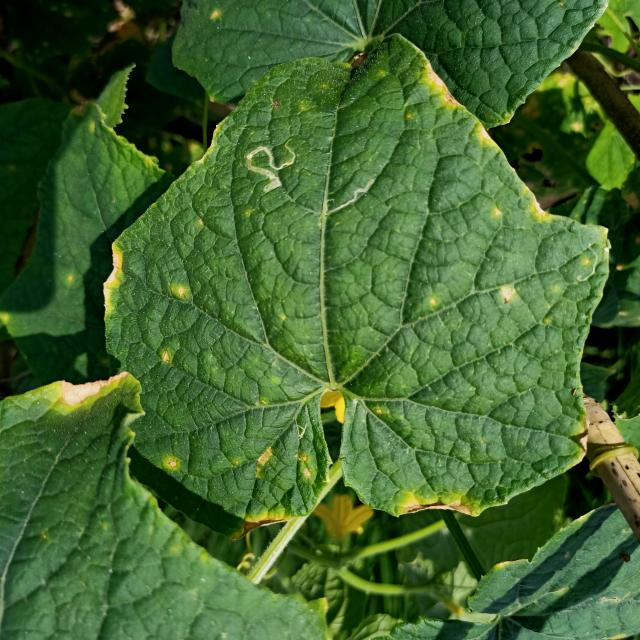disease_cucumber: (232, 442, 316, 542), (488, 188, 563, 228), (168, 281, 198, 303), (496, 284, 522, 306), (162, 453, 184, 473), (158, 349, 174, 364)
